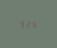nine: (18, 19, 23, 27)
six: (31, 20, 36, 28)
two: (25, 19, 30, 28)
